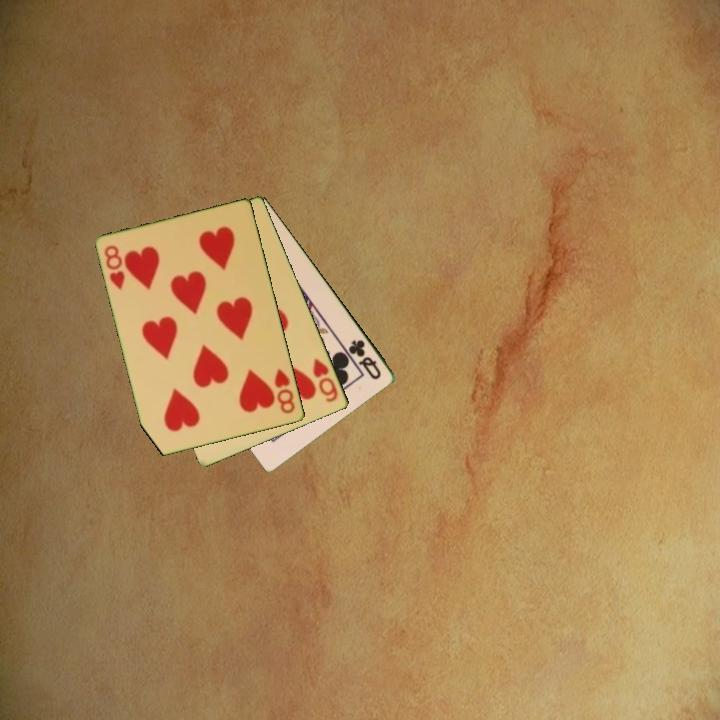6h: (310, 354, 341, 405)
8h: (271, 365, 298, 417), (101, 242, 128, 293)
Qc: (345, 336, 385, 383)
